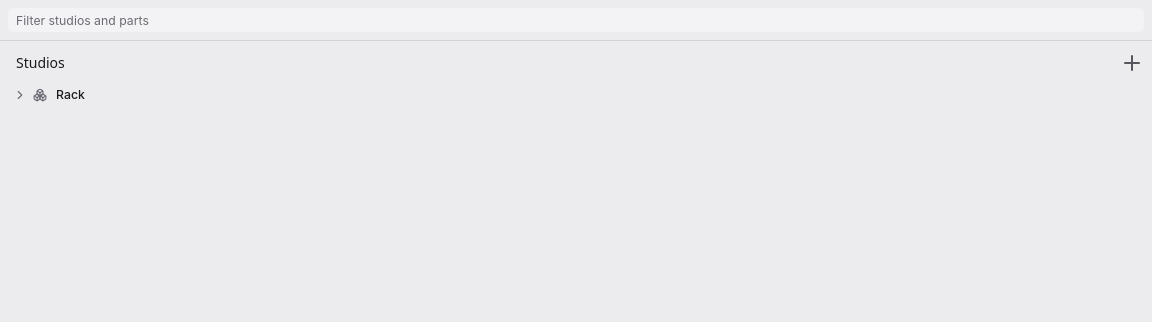
Test case: subassembly tree › reveals every ancestor of a viewport-selected part with a local part label
The image size is (1152, 322).
Click the button named "Expand Rack" at (20, 95), box [10, 85, 30, 105]
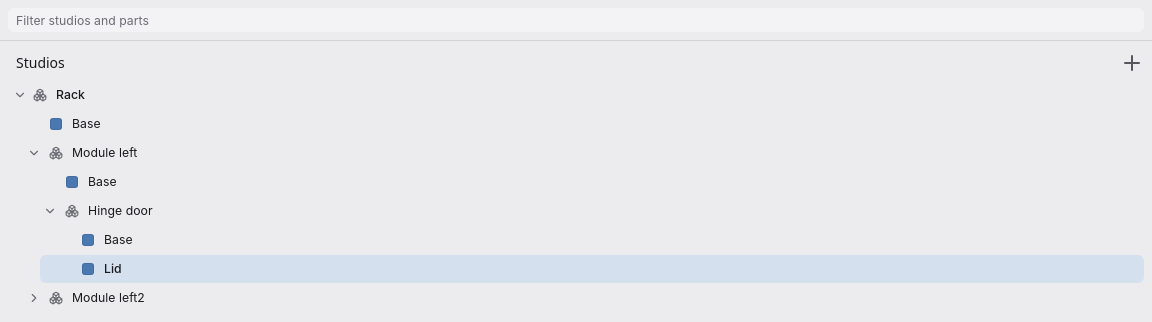
expect the button "Lid" is shown: met, box [104, 261, 1108, 277]
expect the button named "Collapse Module left" is shown: met, box [24, 143, 44, 163]
expect the button named "Collapse Hinge door" is shown: met, box [40, 201, 60, 221]
